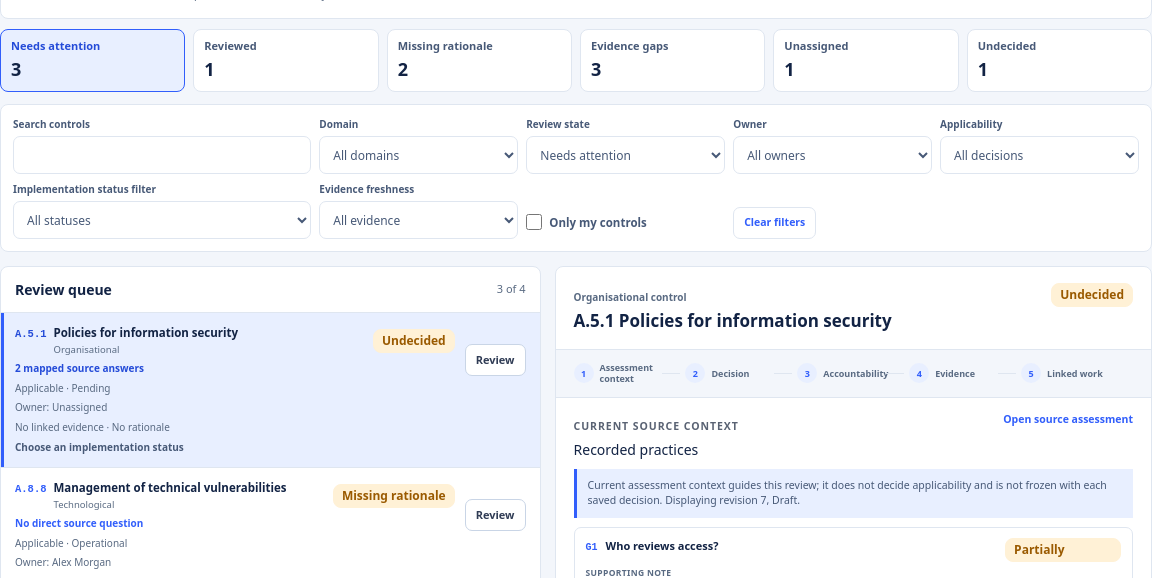
Scenario: SoaReviewWorkspace › renders real linked evidence, task records, and recent item audit events
Click the button named "Review A.8.8 Management of technical vulnerabilities". click: (495, 515)
box: [465,499,526,531]
(page scrolled)
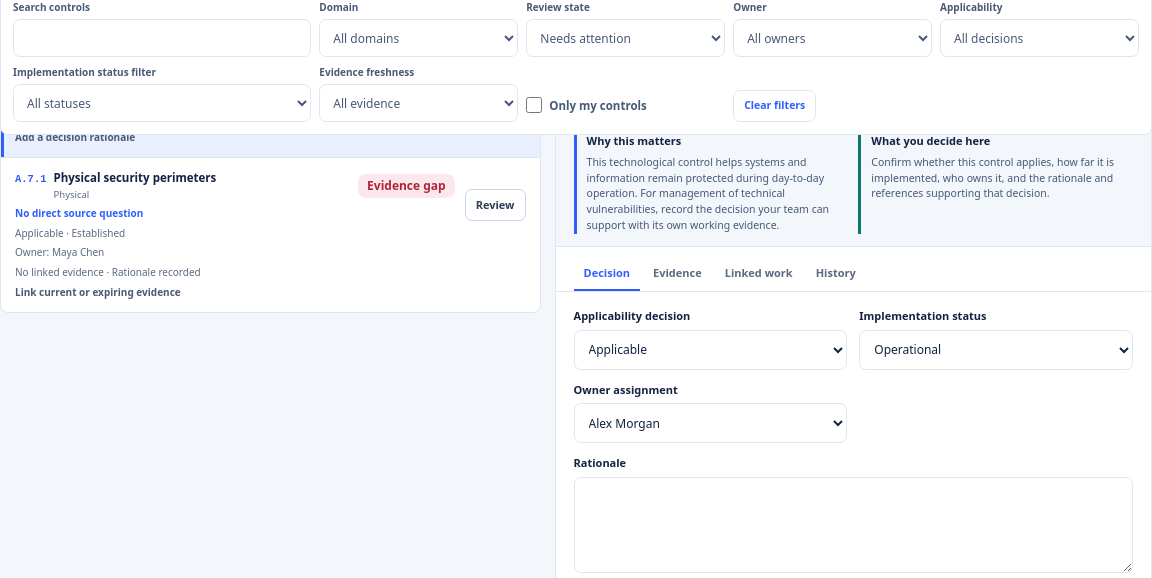
Click the tab "Evidence". click: (677, 274)
box: [643,257,712,291]
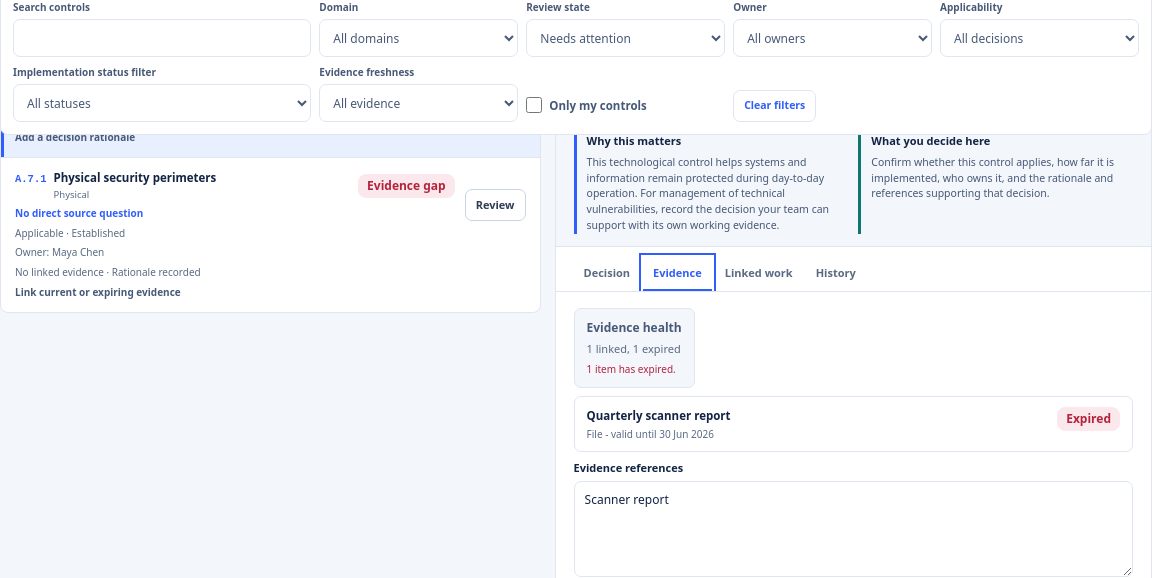
Expected: the list item "Quarterly scanner report" is shown, [586,408,730,423]
Expected: the text "Expired" is shown, [1057,407,1120,431]
Click the tab "Linked work". click: (759, 274)
box: [715,257,803,291]
(page scrolled)
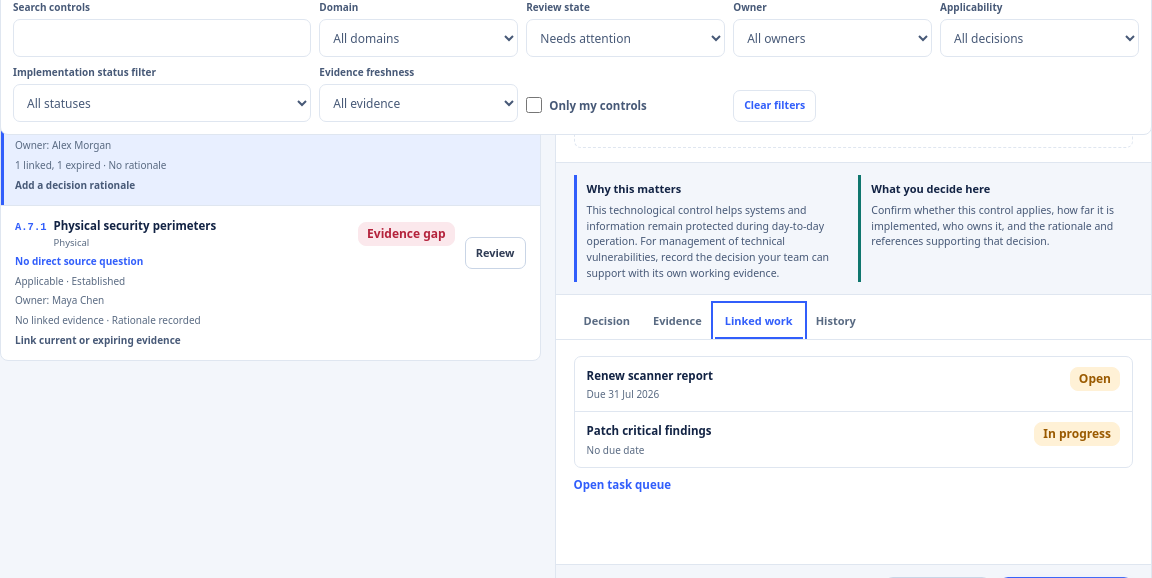
Click the tab "History". click: (836, 322)
box: [806,305,866,339]
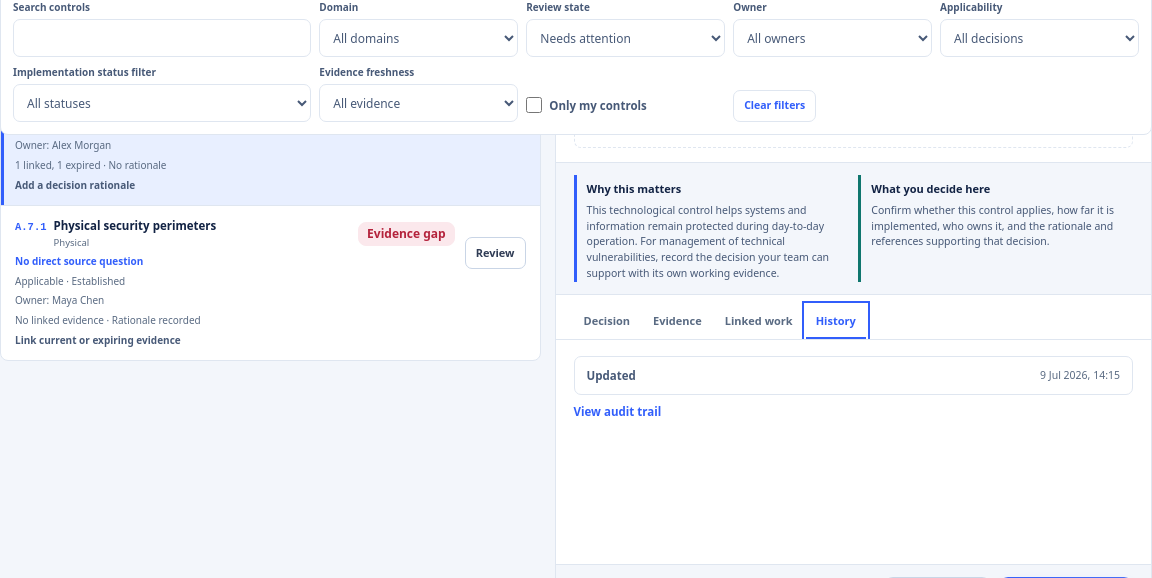
Expected: the text "Updated" is shown, [586,367,636,384]
Expected: the text "9 Jul 2026, 14:15" is shown, [1040,368,1120,384]
